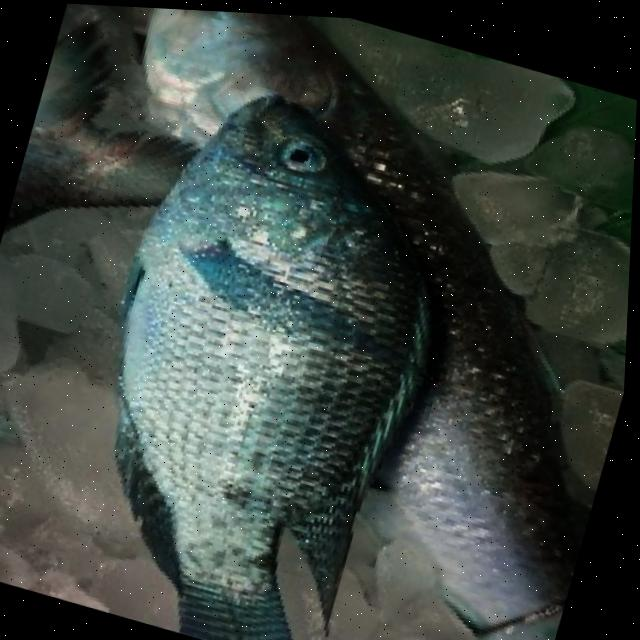Fresh: (62, 65, 477, 640)
